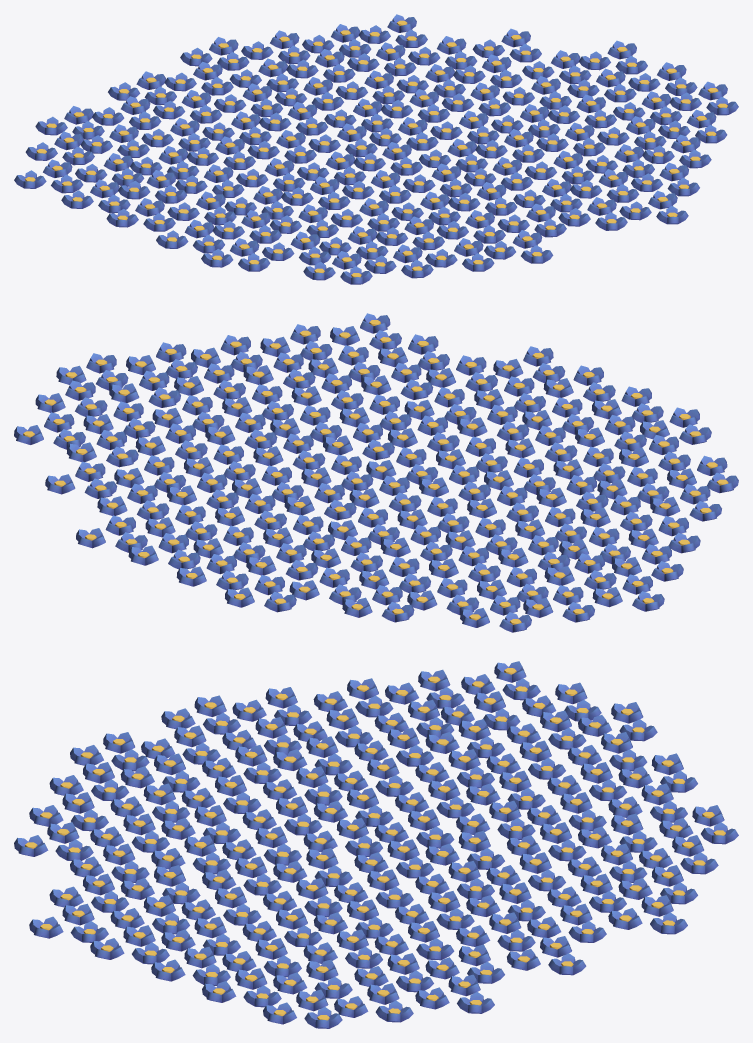
The model's file is Flower Camp.glb.
3 renders of one model, top to bottom at view 1: azimuth 30°, elevation 25°; view 2: azimuth 150°, elevation 25°; view 3: azimuth 270°, elevation 25°, orthographic. The views are drawn at different scales.
Visible parts, largest first — view 1: Group18; view 2: Group18; view 3: Group18.
Part boxes in pixels (bbox=[...]): Group18: bbox=[14, 14, 738, 284]; Group18: bbox=[14, 313, 738, 632]; Group18: bbox=[14, 661, 738, 1028].
Size of the model in its own units: 16.85 by 0.2741 by 14.27.
1 material, 1 textured.
